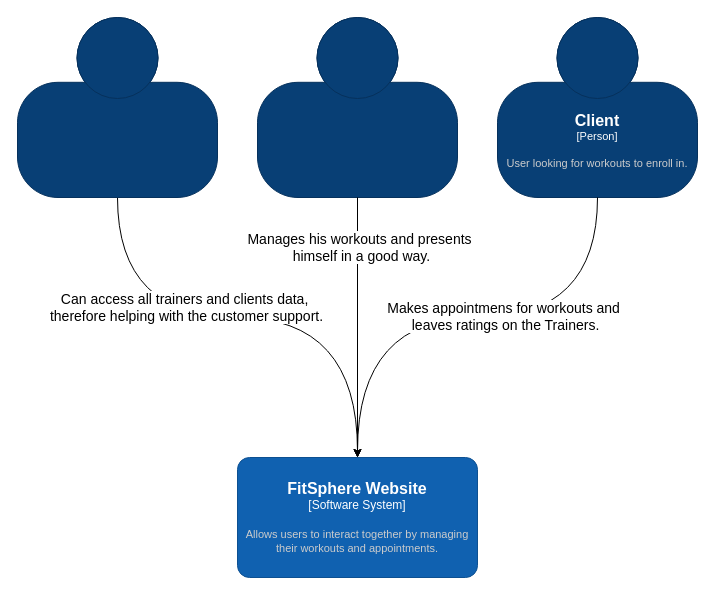
The diagram is 715 pixels wide and 595 high, and some of its shapes have lost their labels. Each missing label, with the box of its shape:
Admin [Person]: (16, 16, 218, 198)
Trainer [Person] User looking to host his workouts and make them more popular.: (256, 16, 458, 198)
